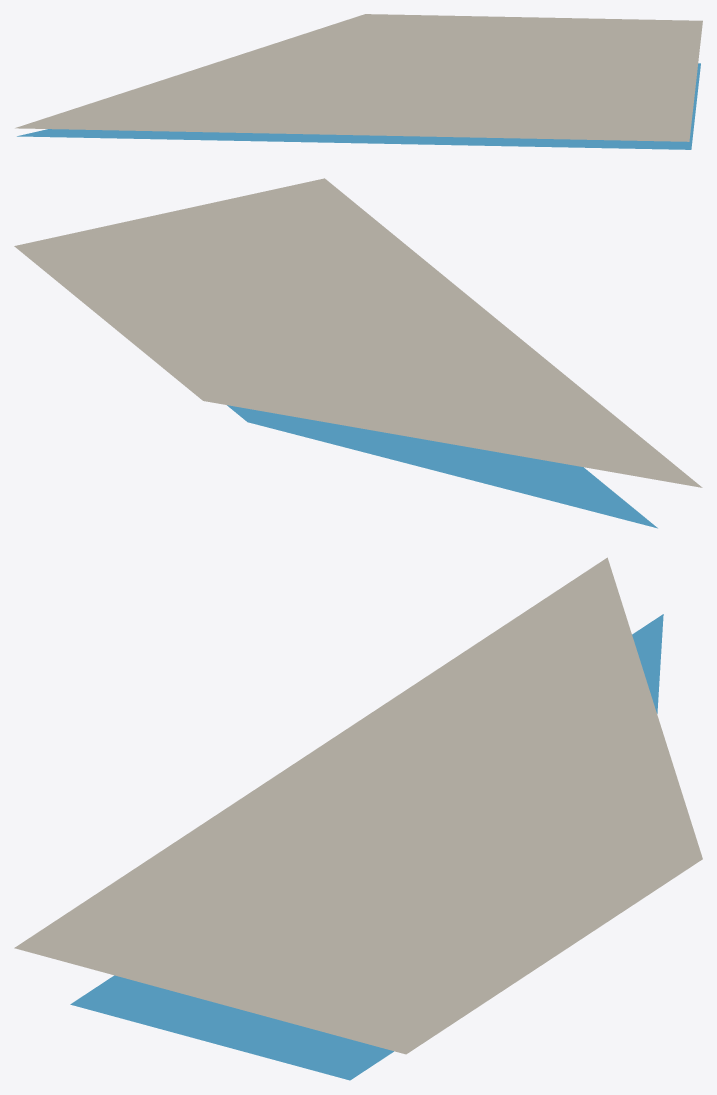
3 views of the same model, one above another, from view 1: azimuth 30°, elevation 25°; view 2: azimuth 150°, elevation 25°; view 3: azimuth 270°, elevation 25° (orthographic). The views are drawn at different scales.
Visible parts, largest first — view 1: estructura_terreno, estructura_agua; view 2: estructura_terreno, estructura_agua; view 3: estructura_terreno, estructura_agua.
Part boxes in pixels (x1,y1,x2,y2): estructura_terreno: (15,14,702,141); estructura_agua: (17,63,700,149); estructura_terreno: (14,178,702,487); estructura_agua: (227,405,657,528); estructura_terreno: (14,557,702,1054); estructura_agua: (70,614,663,1080).
Bounding box in the file's own units: 10.6 × 0.41 × 6.21.
